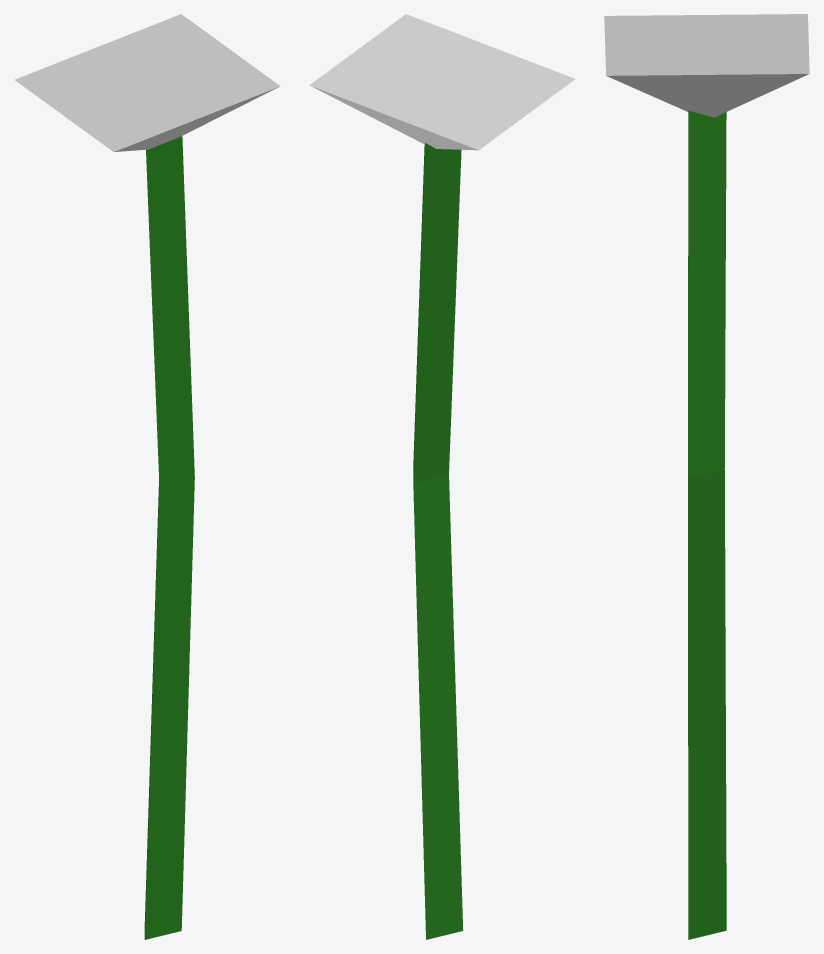
File: Flower_dandelion_2_mat.fbx
3 renders of one model, left to right at view 1: azimuth 30°, elevation 25°; view 2: azimuth 150°, elevation 25°; view 3: azimuth 270°, elevation 25°, orthographic. The views are drawn at different scales.
Parts seen in each view (by area): view 1: Flower_dandelion_2_mat; view 2: Flower_dandelion_2_mat; view 3: Flower_dandelion_2_mat.
Boxes of the visible parts, x1,y1,x2,y2 form: Flower_dandelion_2_mat: (14, 14, 280, 939); Flower_dandelion_2_mat: (309, 14, 574, 939); Flower_dandelion_2_mat: (604, 14, 809, 939).
Bounding box in the file's own units: 0.1184 × 0.5743 × 0.1194.
